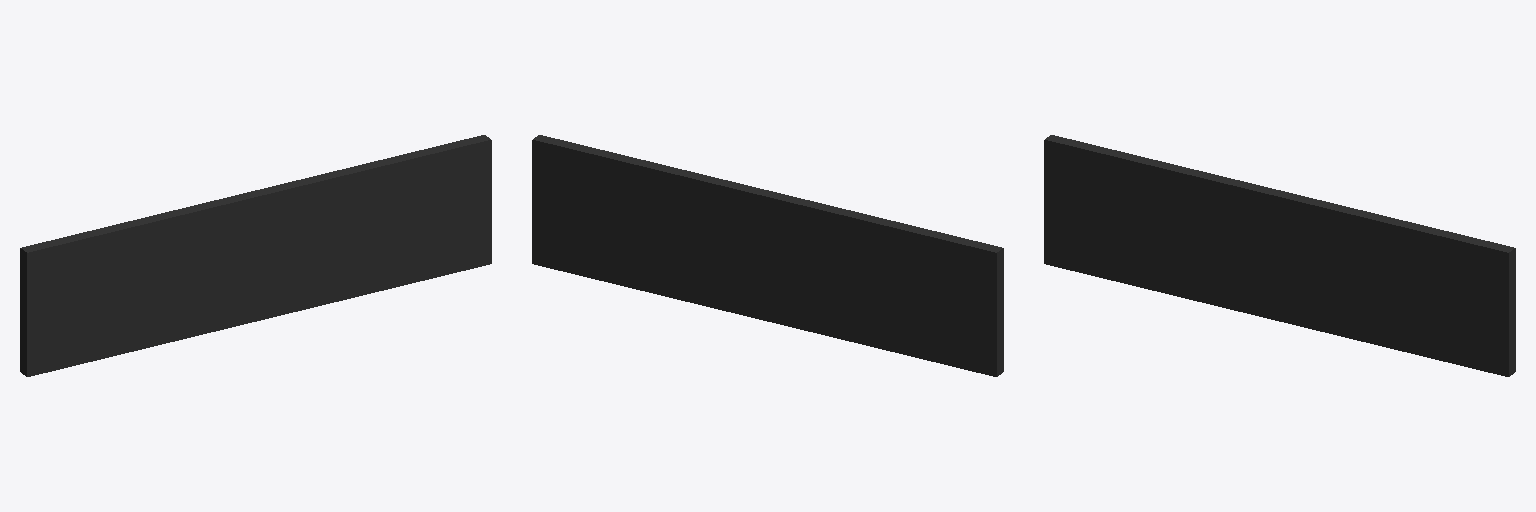
The robot description file, URDF, robot "wall":
<robot name="wall">
  <link name="baseLink">
   
    <inertial>
      <origin rpy="0 0 0" xyz="0 0 0" />
       <mass value="10" />
       <inertia ixx="0" ixy="0" ixz="0" iyy="0" iyz="0" izz="0" />
    </inertial>
    <visual>
      <origin rpy="0 0 0" xyz="0 0 0" />
      <geometry>
			  <box size="3.9 0.1 1" />
      </geometry>
       <material name="grey">
        <color rgba="0.24 0.24 0.24 1" />
      </material>
    </visual>
    <collision>
      <origin rpy="0 0 0" xyz="0 0 0" />
      <geometry>
	 	      <box size="3.9 0.1 1" />
      </geometry>
    </collision>
  </link>
</robot>

--- Facts derived from the render (not from the file) ---
3 views of the same robot in one strip: view 1: azimuth 30°, elevation 25°; view 2: azimuth 150°, elevation 25°; view 3: azimuth 330°, elevation 25° (orthographic).
Robot: wall — 1 links, 0 joints (none); root link baseLink; default pose: every joint at zero.
Links seen in each view (by area): view 1: baseLink; view 2: baseLink; view 3: baseLink.
Link boxes in pixels (<box>): baseLink: <box>20,135,491,376</box>; baseLink: <box>532,135,1003,376</box>; baseLink: <box>1044,135,1515,376</box>.
Bounding box of the posed robot: 3.9 × 0.1 × 1 m (x, y, z).
Geometry: primitives only (box / cylinder / sphere), no mesh files.
